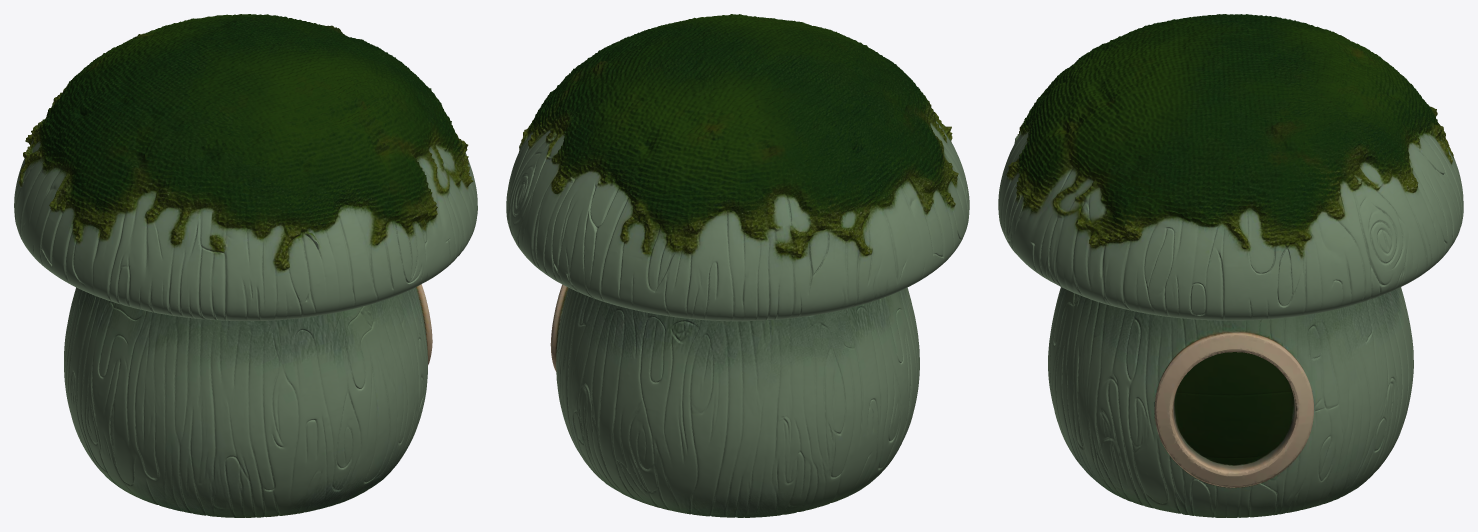
The model's file is model-raw.glb.
3 views of the same model, side by side, from view 1: azimuth 30°, elevation 25°; view 2: azimuth 150°, elevation 25°; view 3: azimuth 270°, elevation 25° (orthographic).
Visible parts, largest first — view 1: tripo_node_59fb0512-6c81-4fc0-9c89-0bc1aa795ab9; view 2: tripo_node_59fb0512-6c81-4fc0-9c89-0bc1aa795ab9; view 3: tripo_node_59fb0512-6c81-4fc0-9c89-0bc1aa795ab9.
Boxes of the visible parts, left/top/right/bottom form: tripo_node_59fb0512-6c81-4fc0-9c89-0bc1aa795ab9: left=14, top=14, right=477, bottom=517; tripo_node_59fb0512-6c81-4fc0-9c89-0bc1aa795ab9: left=506, top=14, right=969, bottom=517; tripo_node_59fb0512-6c81-4fc0-9c89-0bc1aa795ab9: left=998, top=14, right=1463, bottom=517.
Bounding box in the file's own units: 1 × 0.9894 × 1.
1 material, 1 textured.
